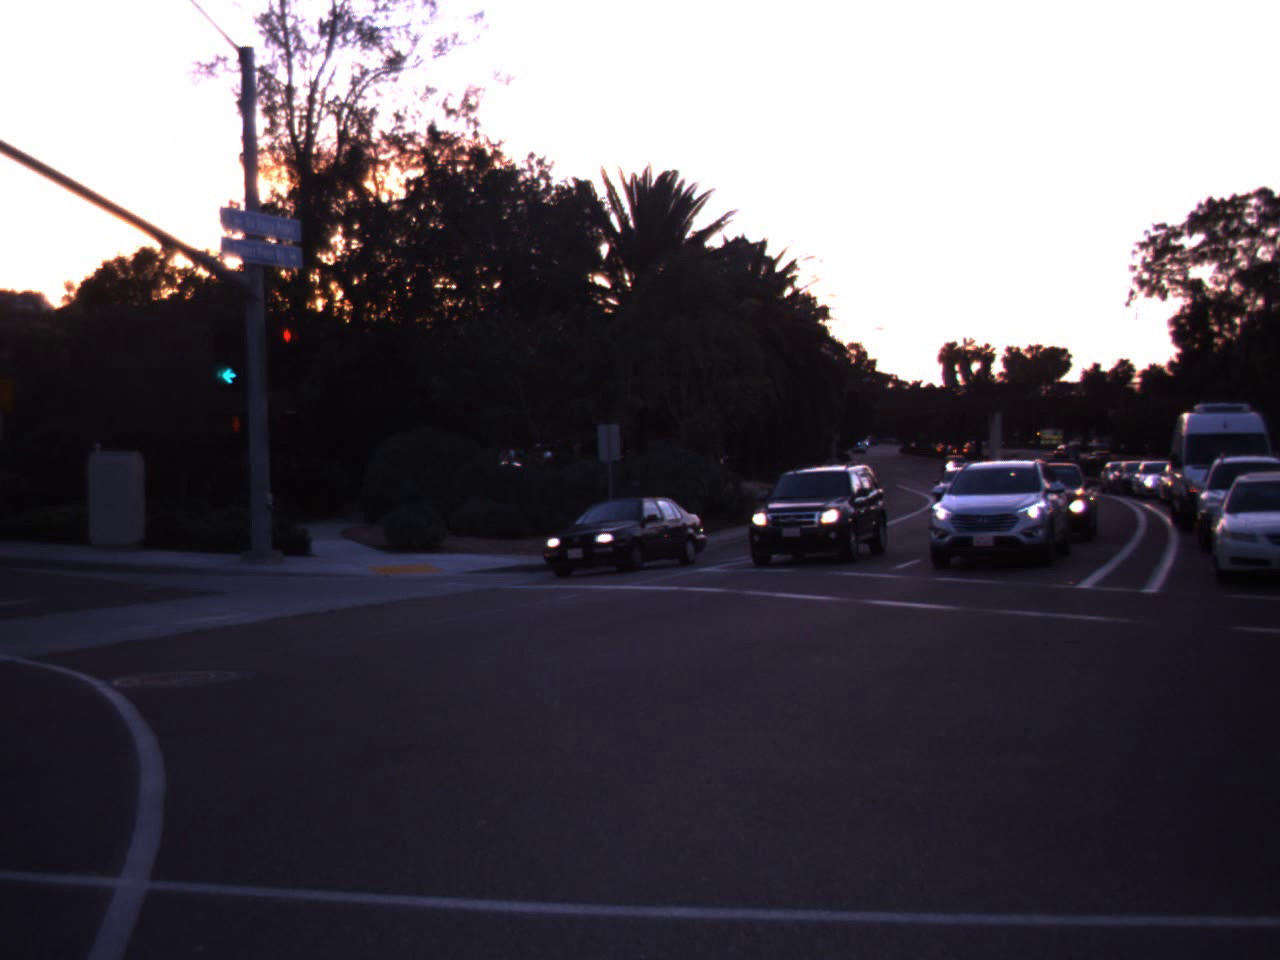go: (196, 303, 259, 393)
